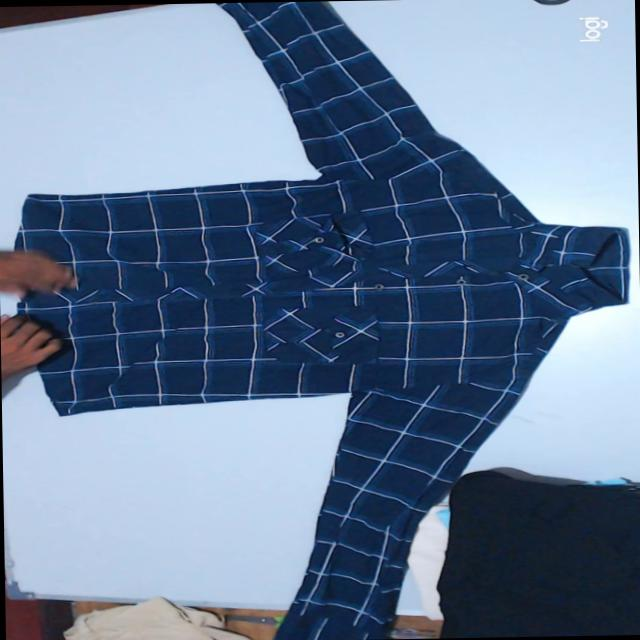new-garment: (0, 0, 629, 640)
